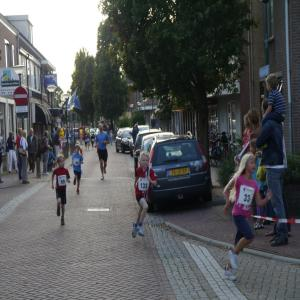Vehicle-registration-plate: (169, 168, 190, 178)
